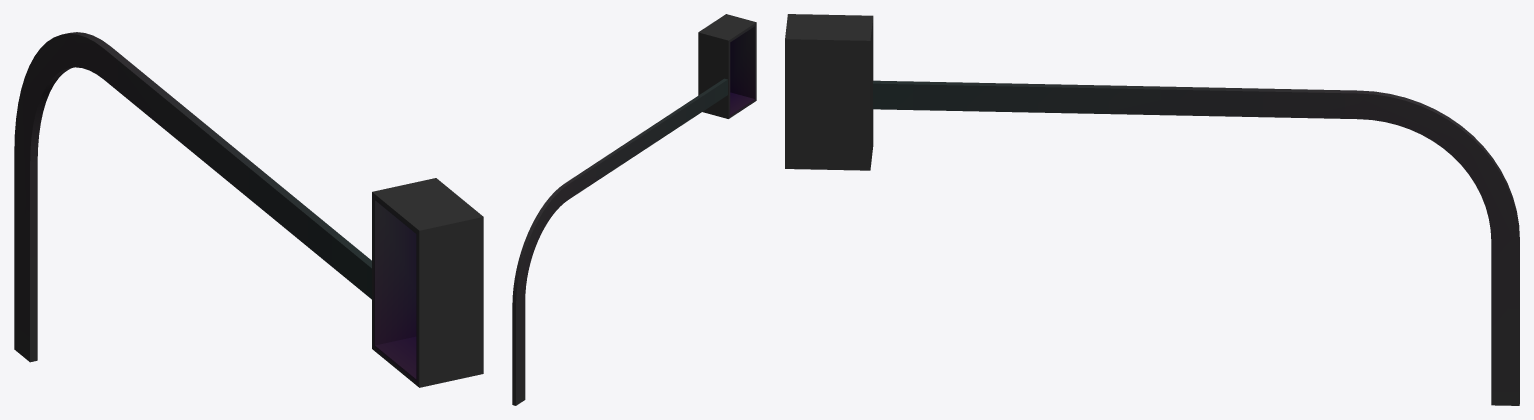
3 views of the same model, side by side, from view 1: azimuth 30°, elevation 25°; view 2: azimuth 150°, elevation 25°; view 3: azimuth 270°, elevation 25° (orthographic). The views are drawn at different scales.
Visible parts, largest first — view 1: case, strip; view 2: strip, case; view 3: strip, case.
Part boxes in pixels (x1,y1,x2,y2): case: [372, 178, 483, 387]; strip: [14, 32, 371, 362]; strip: [512, 78, 727, 405]; case: [698, 14, 756, 118]; strip: [873, 80, 1519, 405]; case: [785, 14, 873, 170].
Size of the model in its own units: 0.2605 by 1.69 by 3.01.
